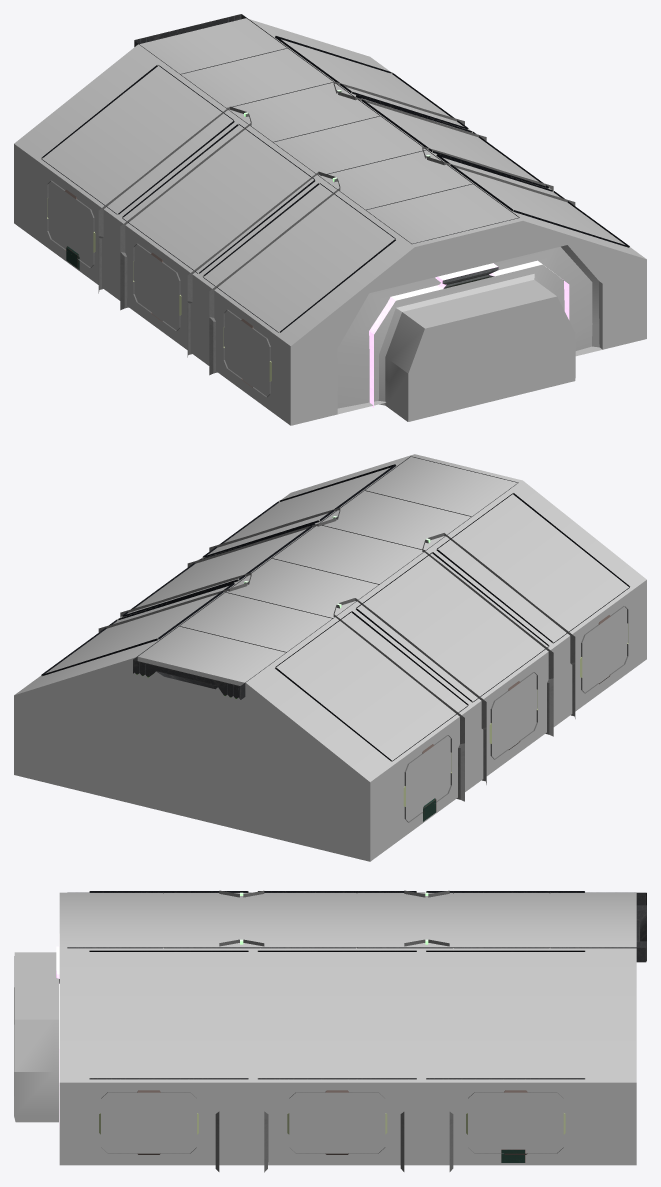
File: room.fbx
3 renders of one model, top to bottom at view 1: azimuth 30°, elevation 25°; view 2: azimuth 150°, elevation 25°; view 3: azimuth 270°, elevation 25°, orthographic. The views are drawn at different scales.
Parts seen in each view (by area): view 1: polySurface21, Pillar_window, celing_light5, Door1, Top_light; view 2: polySurface21, Pillar_window, celing_light5, Top_light; view 3: polySurface21, Pillar_window, celing_light5, Top_light.
Boxes of the visible parts, box(x1,y1,x2,y2) form: polySurface21: box(14, 18, 646, 425); Pillar_window: box(47, 81, 575, 397); celing_light5: box(41, 35, 629, 333); Door1: box(369, 260, 569, 407); Top_light: box(134, 14, 519, 244); polySurface21: box(14, 454, 646, 861); Pillar_window: box(98, 507, 628, 822); celing_light5: box(41, 464, 630, 761); Top_light: box(133, 456, 518, 699); polySurface21: box(14, 892, 636, 1165); Pillar_window: box(99, 890, 565, 1172); celing_light5: box(89, 891, 585, 1079); Top_light: box(67, 892, 646, 962).
Size of the model in its own units: 1873 by 763 by 2692.
